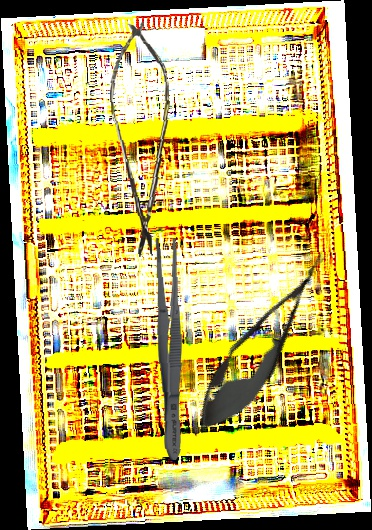Dressing Forceps: (151, 237, 188, 461)
Micro Scissor: (180, 238, 346, 448), (106, 21, 178, 258)
